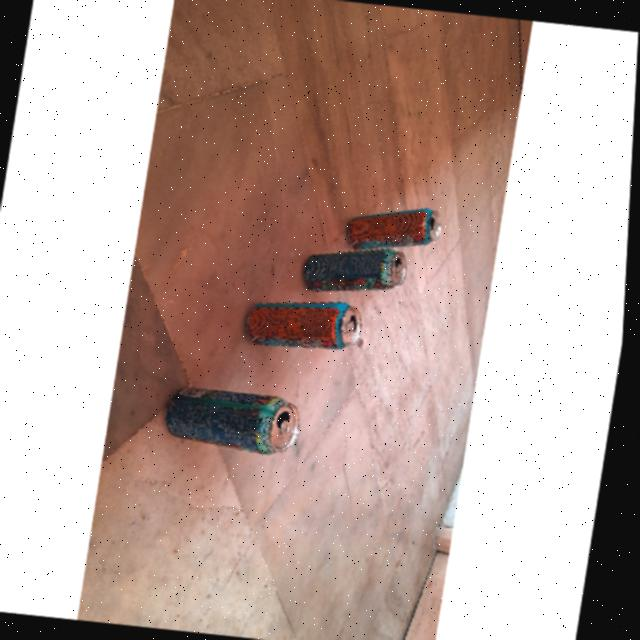Monster Aussie Lemonade: (165, 382, 306, 457), (300, 240, 409, 300)
Monster Mango Loco: (243, 292, 368, 354), (348, 202, 441, 250)
